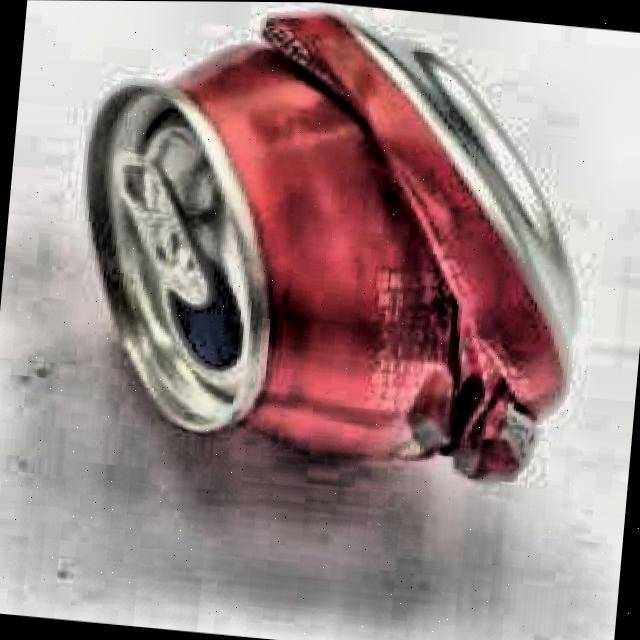metal: (81, 2, 590, 492)
